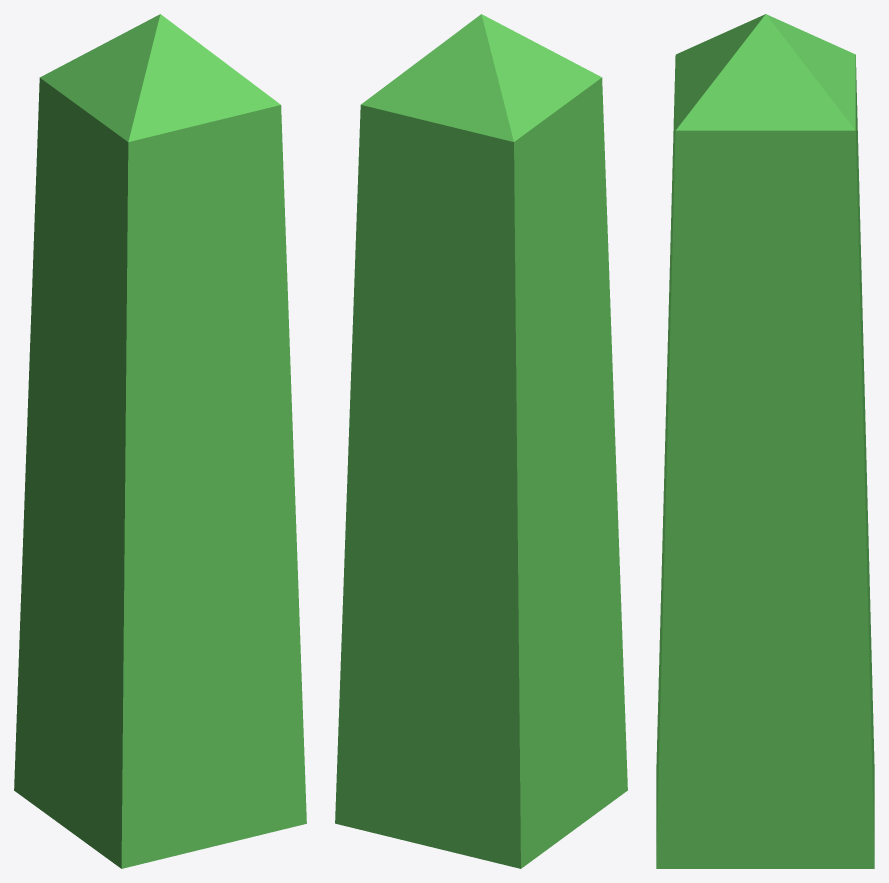
File: Gen_Handrail_Cap.fbx
The picture shows the model from 3 angles, left to right: view 1: azimuth 30°, elevation 25°; view 2: azimuth 150°, elevation 25°; view 3: azimuth 270°, elevation 25°; orthographic projection.
Visible parts, largest first — view 1: Gen_Handrail_Cap; view 2: Gen_Handrail_Cap; view 3: Gen_Handrail_Cap.
Boxes of the visible parts, x1,y1,x2,y2 form: Gen_Handrail_Cap: (14, 14, 306, 868); Gen_Handrail_Cap: (335, 14, 627, 868); Gen_Handrail_Cap: (656, 14, 874, 868).
Bounding box in the file's own units: 32.71 × 133 × 32.67.
